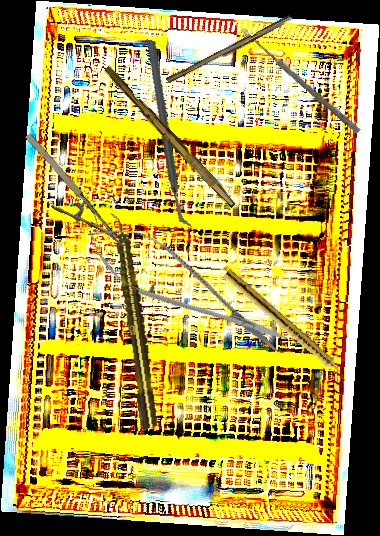Chopper: (104, 38, 235, 228)
Handpiece: (221, 268, 351, 384), (108, 210, 161, 432)
Micro Scissor: (74, 207, 299, 372)
Needle Holder: (7, 130, 125, 265)
Scalpel Handle: (100, 64, 241, 209), (165, 12, 294, 88)
Surgical Spoon: (239, 27, 362, 134)
